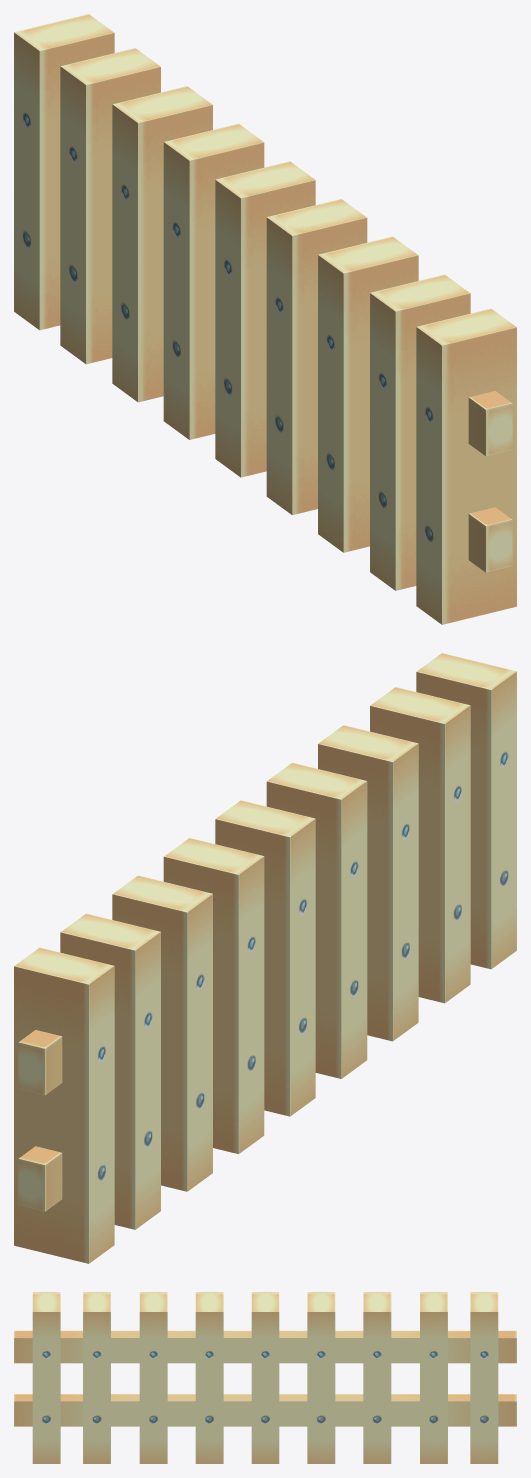
The model's file is Envi_Pagar.fbx.
3 views of the same model, one above another, from view 1: azimuth 30°, elevation 25°; view 2: azimuth 150°, elevation 25°; view 3: azimuth 270°, elevation 25° (orthographic). The views are drawn at different scales.
Parts seen in each view (by area): view 1: Envi_Pagar; view 2: Envi_Pagar; view 3: Envi_Pagar.
Part boxes in pixels (<box>): Envi_Pagar: <box>14,14,516,624</box>; Envi_Pagar: <box>14,653,516,1263</box>; Envi_Pagar: <box>14,1292,516,1463</box>.
Bounding box in the file's own units: 46.59 × 166 × 498.
1 material, 1 textured.
